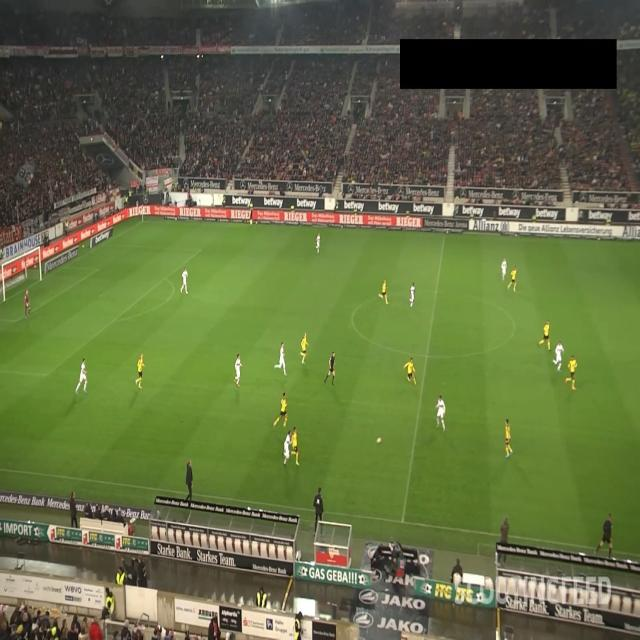ball: (376, 435, 382, 445)
